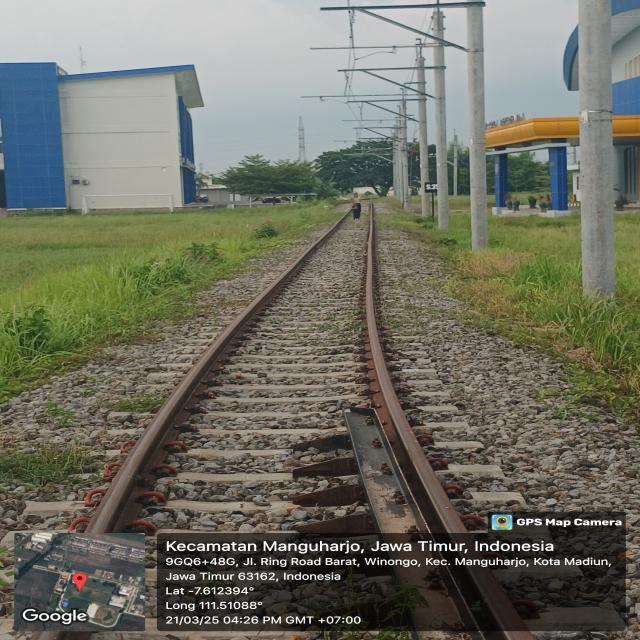rail-detection: (303, 211, 531, 640), (88, 222, 341, 533)
